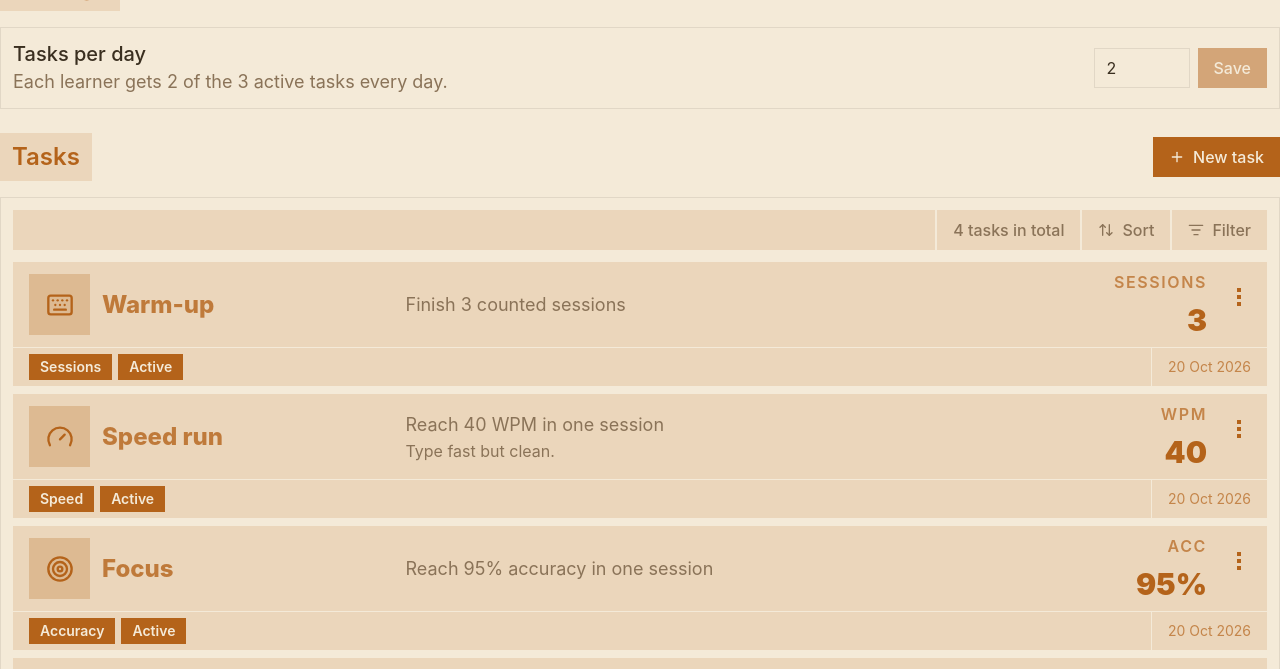
it: AdminDailyTasksPage › deletes a task after confirmation
This screenshot has width=1280, height=669.
Click the button named "Actions for Focus" at (1239, 561), box x1=1223 y1=545 x2=1255 y2=577
(page scrolled)
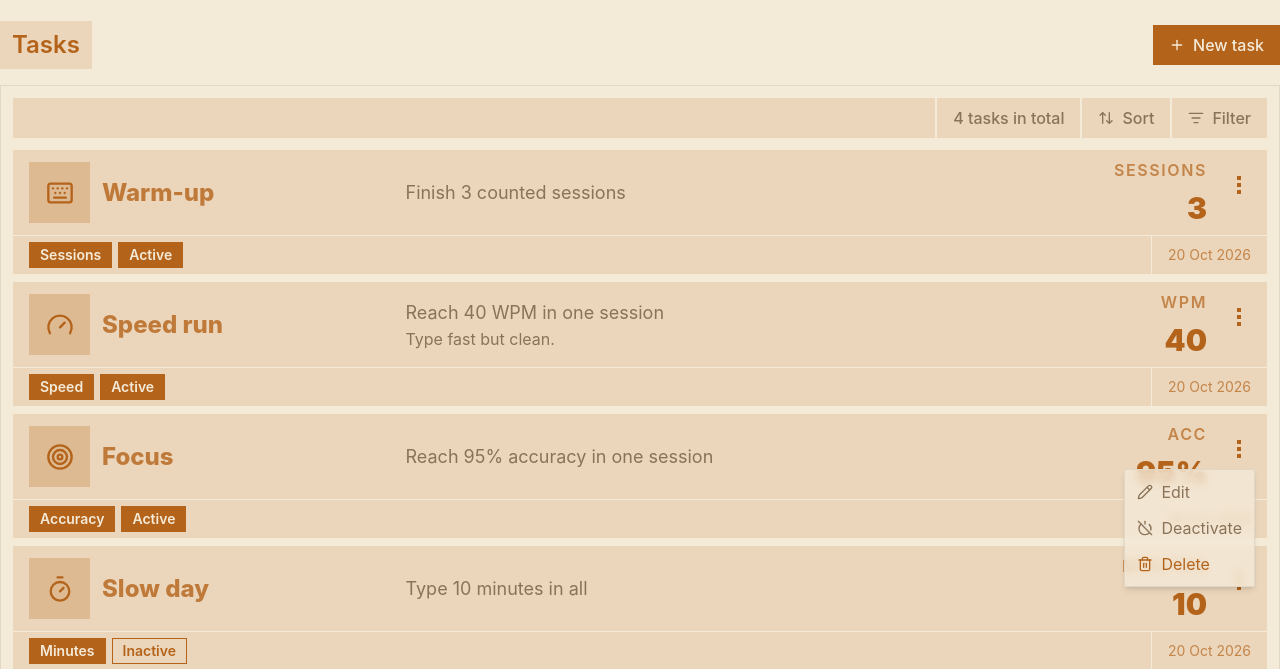
Click the menu item "Delete" at (1174, 564), box x1=1137 y1=554 x2=1210 y2=574
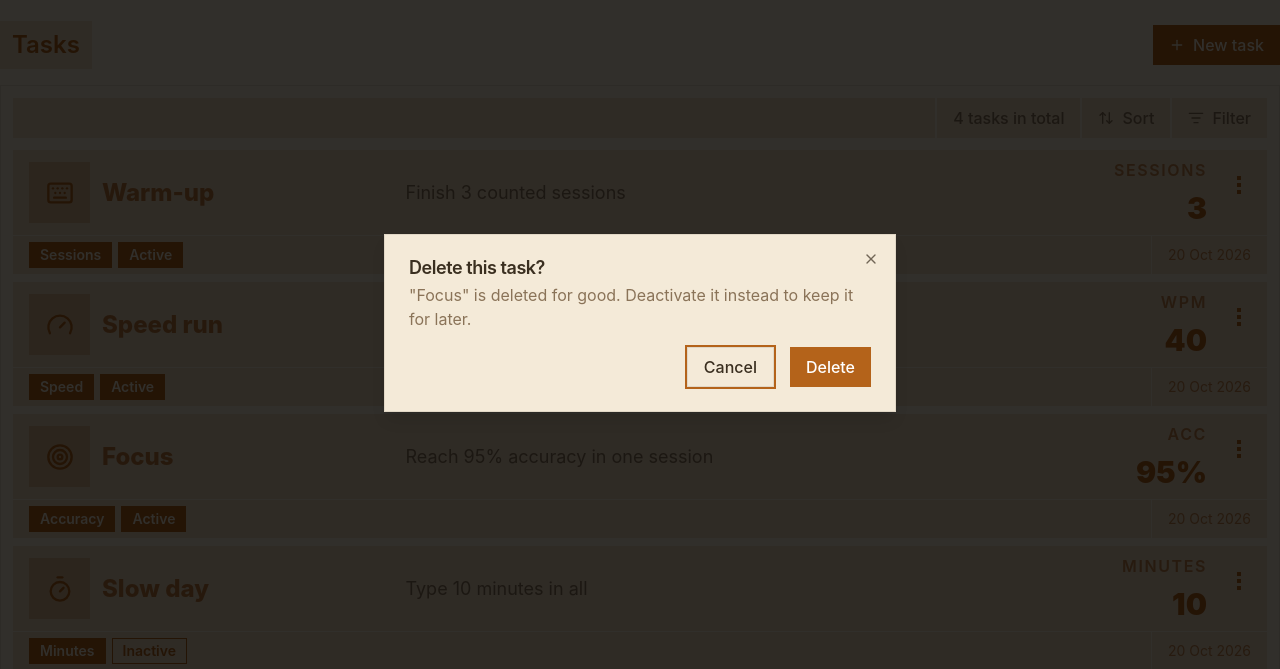
Expected: the heading "Delete this task?" is shown, x1=409 y1=257 x2=545 y2=278
Click the button "Delete" at (830, 367), box x1=790 y1=347 x2=871 y2=387
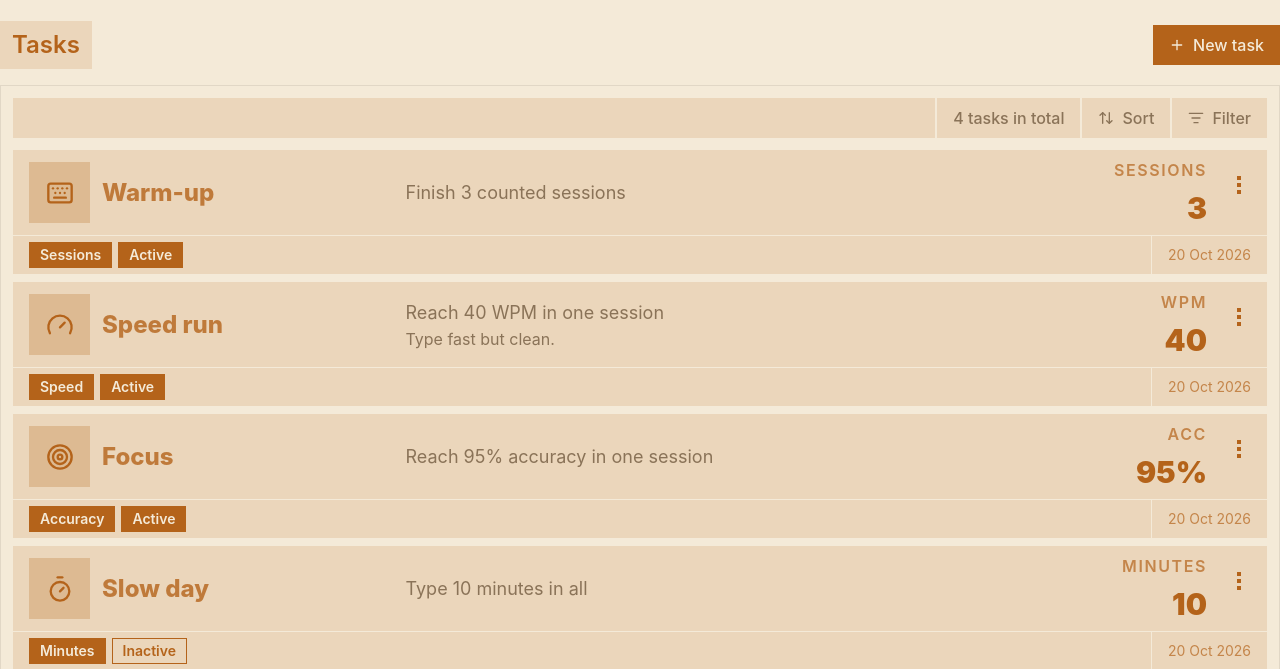
Expected: the dialog is gone
